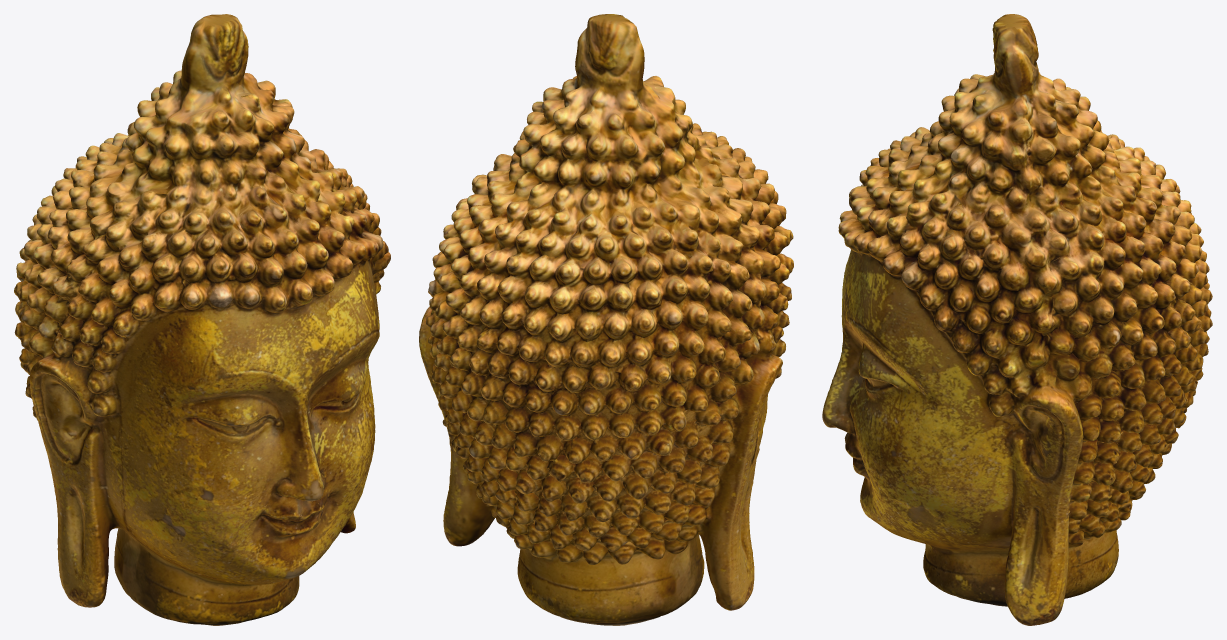
Rendered from gold_headed_buddha_-_photogrammetry_test_2019.glb.
3 views of the same model, side by side, from view 1: azimuth 30°, elevation 25°; view 2: azimuth 150°, elevation 25°; view 3: azimuth 270°, elevation 25° (orthographic). The views are drawn at different scales.
Parts seen in each view (by area): view 1: Object_5, Object_4, Object_6; view 2: Object_4, Object_5, Object_6; view 3: Object_4, Object_5, Object_6.
Part boxes in pixels (x1=…): Object_5: x1=14, y1=14, x2=390, y2=625; Object_4: x1=14, y1=14, x2=383, y2=625; Object_6: x1=24, y1=84, x2=386, y2=618; Object_4: x1=422, y1=14, x2=793, y2=622; Object_5: x1=426, y1=14, x2=793, y2=625; Object_6: x1=419, y1=76, x2=787, y2=608; Object_4: x1=826, y1=14, x2=1212, y2=624; Object_5: x1=822, y1=15, x2=1212, y2=605; Object_6: x1=832, y1=96, x2=1202, y2=625.
Size of the model in its own units: 0.2219 by 0.3631 by 0.2294.
1 material, 1 textured.
